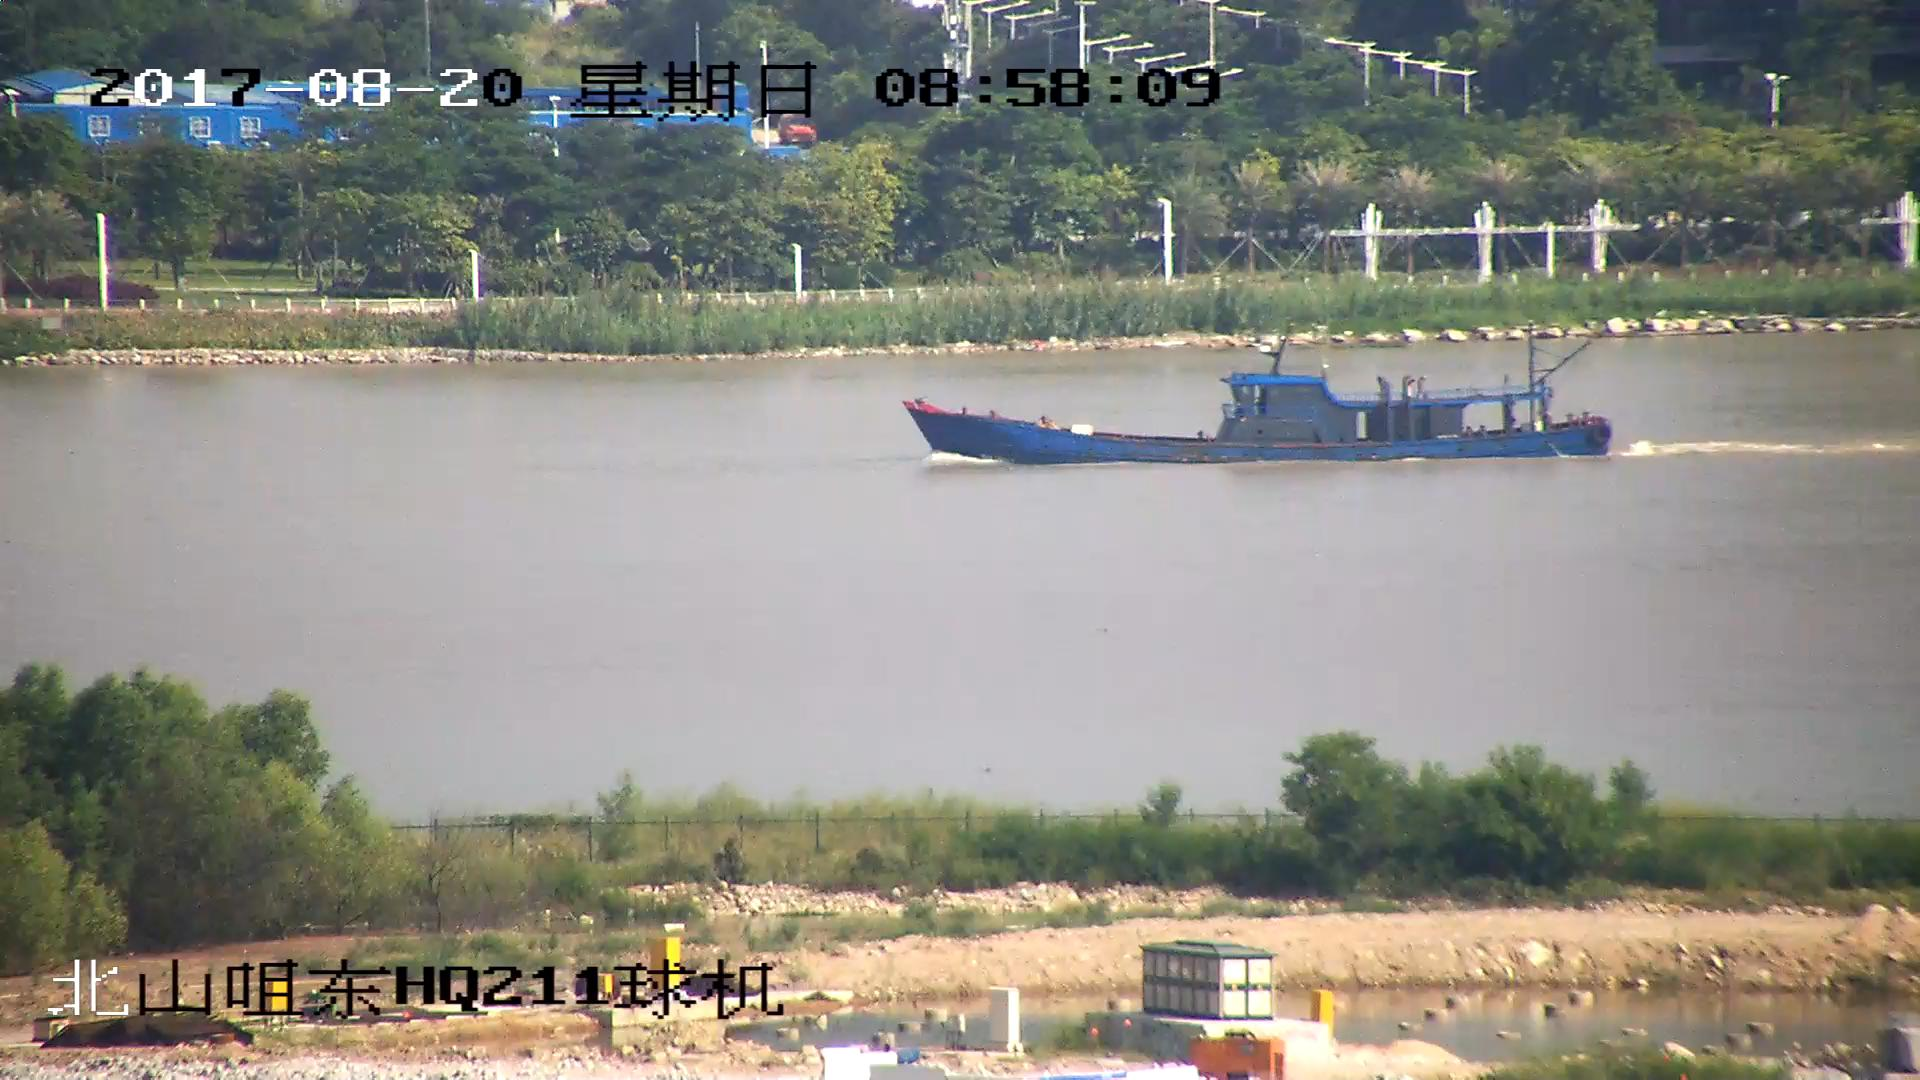fishing boat: (901, 333, 1616, 461)
